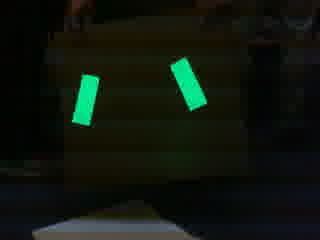target: (72, 55, 209, 126)
